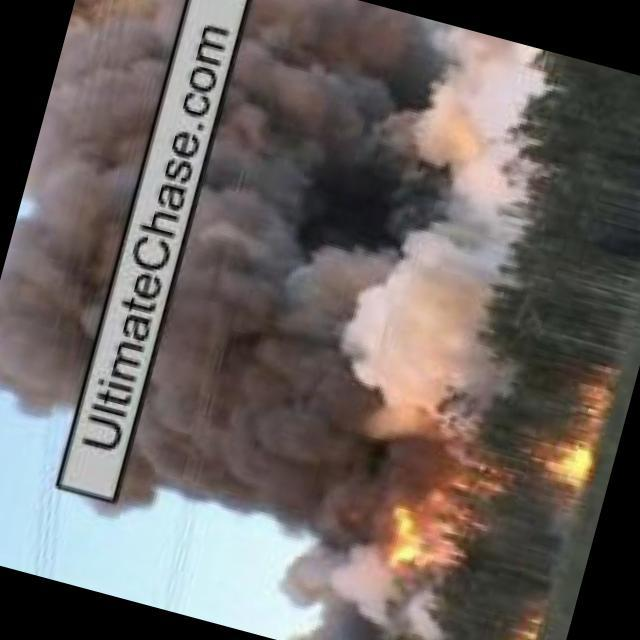Fire: (361, 440, 493, 588), (521, 366, 618, 489), (502, 600, 545, 640)
